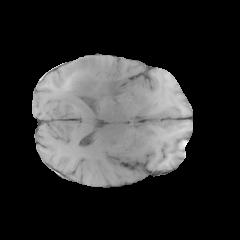glioma: (58, 56, 127, 105)
